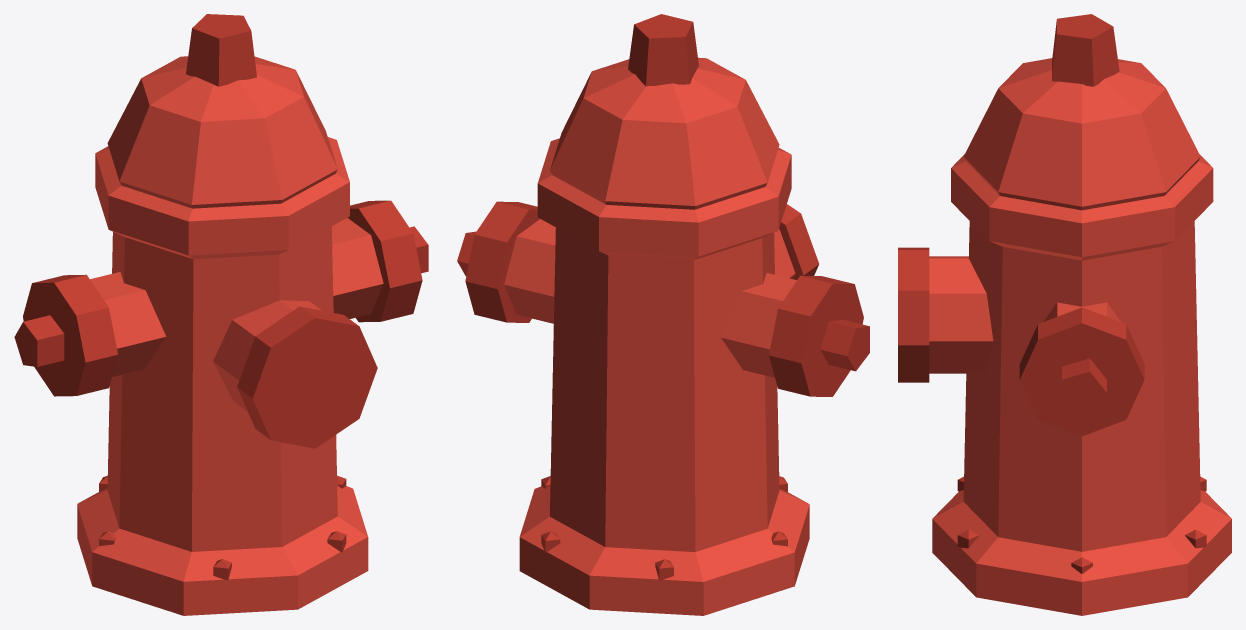
The model's file is hydrant.glb.
3 renders of one model, left to right at view 1: azimuth 30°, elevation 25°; view 2: azimuth 150°, elevation 25°; view 3: azimuth 270°, elevation 25°, orthographic.
Parts seen in each view (by area): view 1: hydrant-m; view 2: hydrant-m; view 3: hydrant-m.
Part boxes in pixels (x1=…): hydrant-m: x1=14, y1=14, x2=428, y2=615; hydrant-m: x1=457, y1=14, x2=869, y2=615; hydrant-m: x1=898, y1=14, x2=1231, y2=615.
Bounding box in the file's own units: 0.72 × 0.93 × 0.535.
